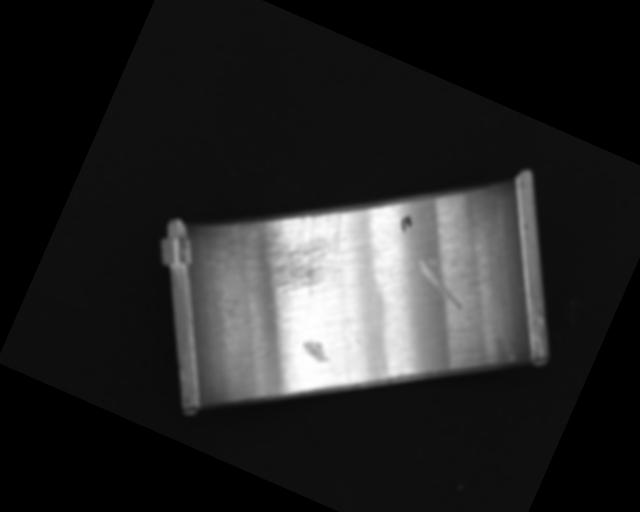blot: (396, 212, 415, 235)
bruise: (298, 335, 334, 365)
nick: (388, 196, 447, 283), (407, 256, 473, 309)
scratch: (220, 176, 365, 316)
